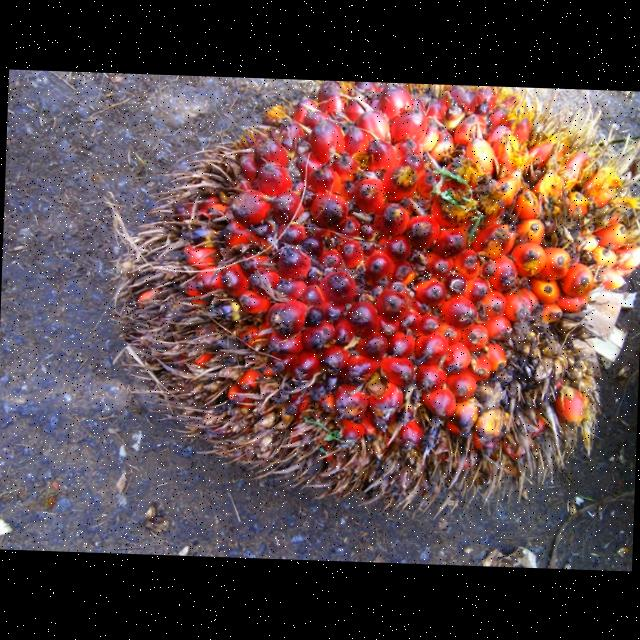Ripe: (131, 81, 637, 489)
